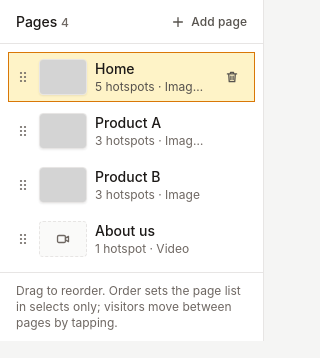
Scenario: PageList (spec PG-1) › renaming › starts with F2 and keeps the old name on Escape
The image size is (320, 358).
Press F2 in the button "Home 5 hotspots · Image · Start", box [39,59,210,95]
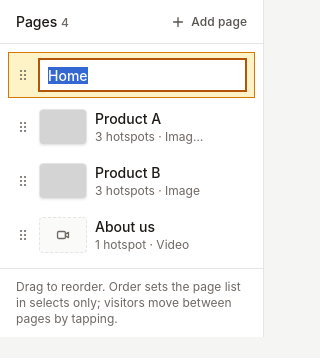
Replace the text in the field named "Page name" with "Start" at (142, 75), box [39,59,246,91]
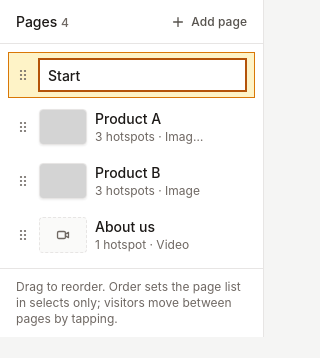
Press Escape in the field named "Page name", box [39,59,246,91]
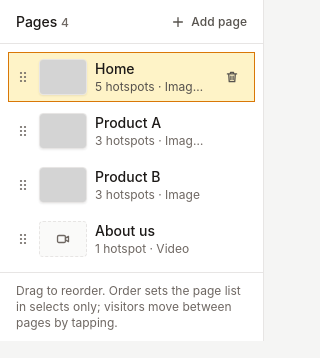
Now the text "Home" is shown, box [95,60,134,77]
